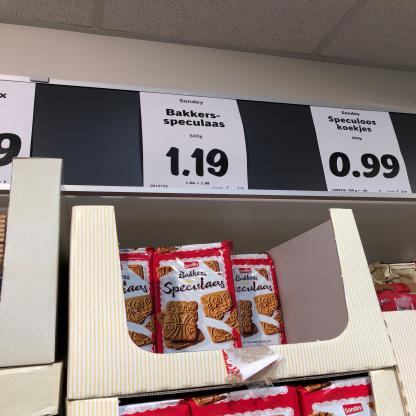prtg: (141, 93, 249, 191), (311, 107, 413, 194), (1, 81, 37, 185)
